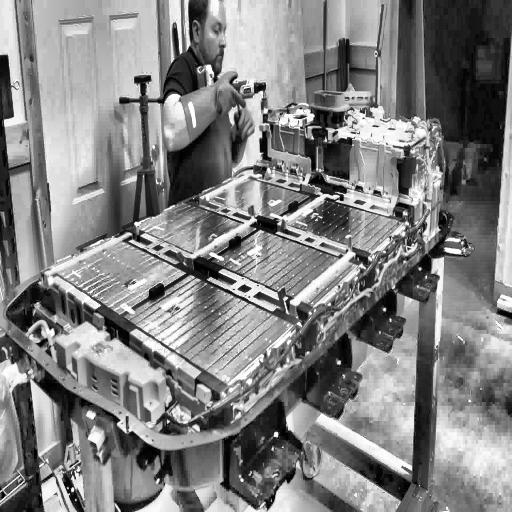battery_module: (123, 273, 293, 386), (212, 229, 357, 307), (51, 235, 187, 315), (275, 196, 405, 254), (138, 202, 257, 261), (201, 174, 309, 221)
busbar: (273, 231, 361, 324), (39, 216, 143, 291), (172, 195, 266, 276), (255, 114, 324, 200), (197, 160, 272, 212), (272, 188, 342, 238), (385, 134, 408, 218), (303, 113, 336, 143)
connector: (309, 89, 350, 123)
high_volt_cable: (232, 127, 437, 417)
low_volt_cable: (152, 128, 449, 434)
